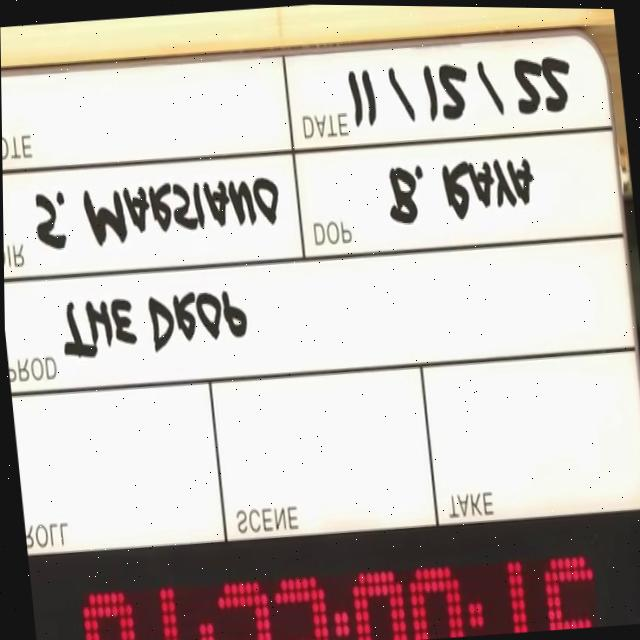Clapperboard: (0, 17, 640, 640)
